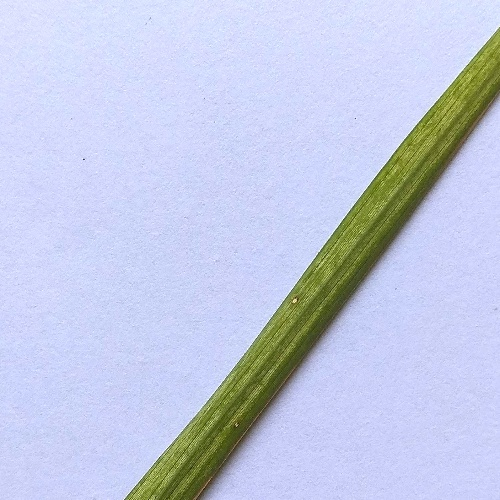Busuk Leher: (282, 283, 302, 309), (226, 413, 246, 434)
